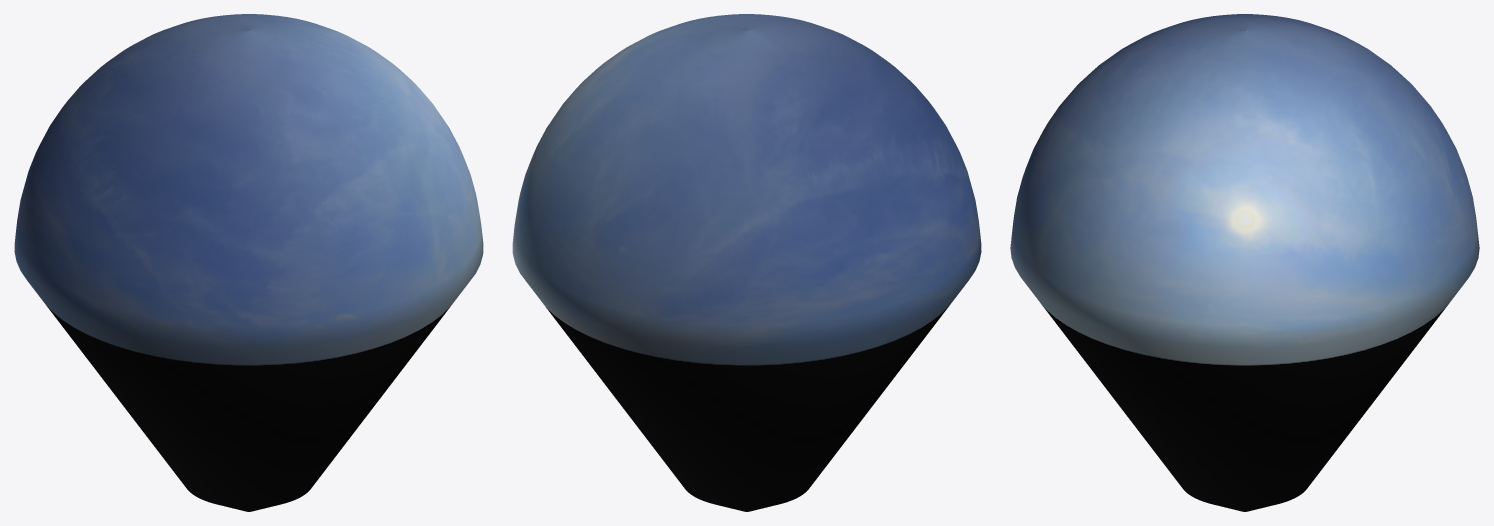
Rendered from sky.fbx.
3 views of the same model, side by side, from view 1: azimuth 30°, elevation 25°; view 2: azimuth 150°, elevation 25°; view 3: azimuth 270°, elevation 25° (orthographic).
Parts seen in each view (by area): view 1: Sphere; view 2: Sphere; view 3: Sphere.
Boxes of the visible parts, box(x1,y1,x2,y2) form: Sphere: box(14, 14, 483, 511); Sphere: box(512, 14, 981, 511); Sphere: box(1010, 14, 1479, 511).
Bounding box in the file's own units: 387 × 436 × 387.
